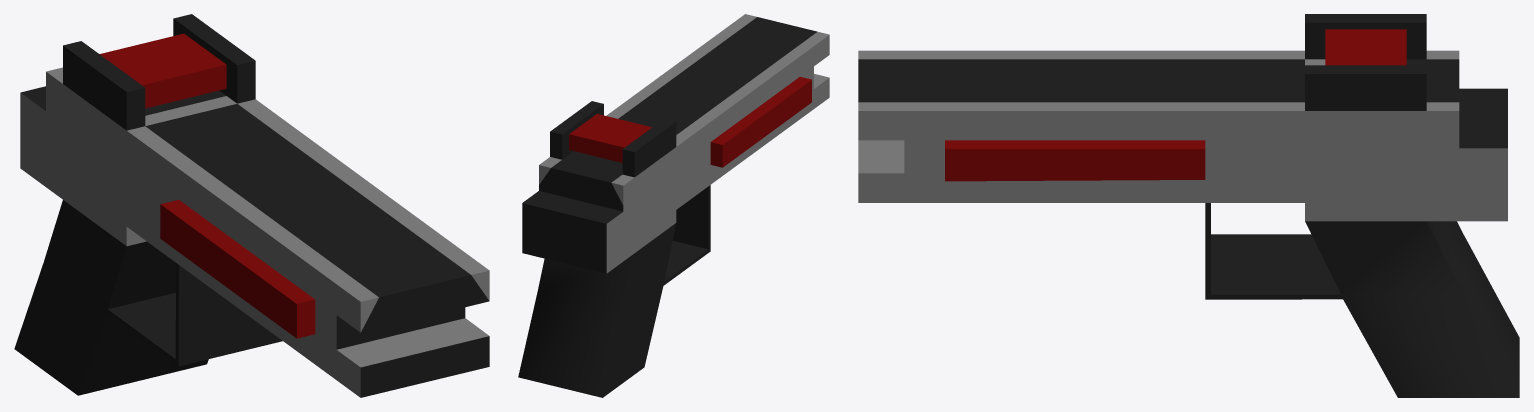
Rendered from PistoletLaser.fbx.
3 views of the same model, side by side, from view 1: azimuth 30°, elevation 25°; view 2: azimuth 150°, elevation 25°; view 3: azimuth 270°, elevation 25° (orthographic). The views are drawn at different scales.
Parts seen in each view (by area): view 1: Box001; view 2: Box001; view 3: Box001.
Boxes of the visible parts, <box> form: Box001: <box>14,14,489,397</box>; Box001: <box>518,14,829,397</box>; Box001: <box>858,14,1519,397</box>.
Bounding box in the file's own units: 4.5 × 8.8 × 16.29.
